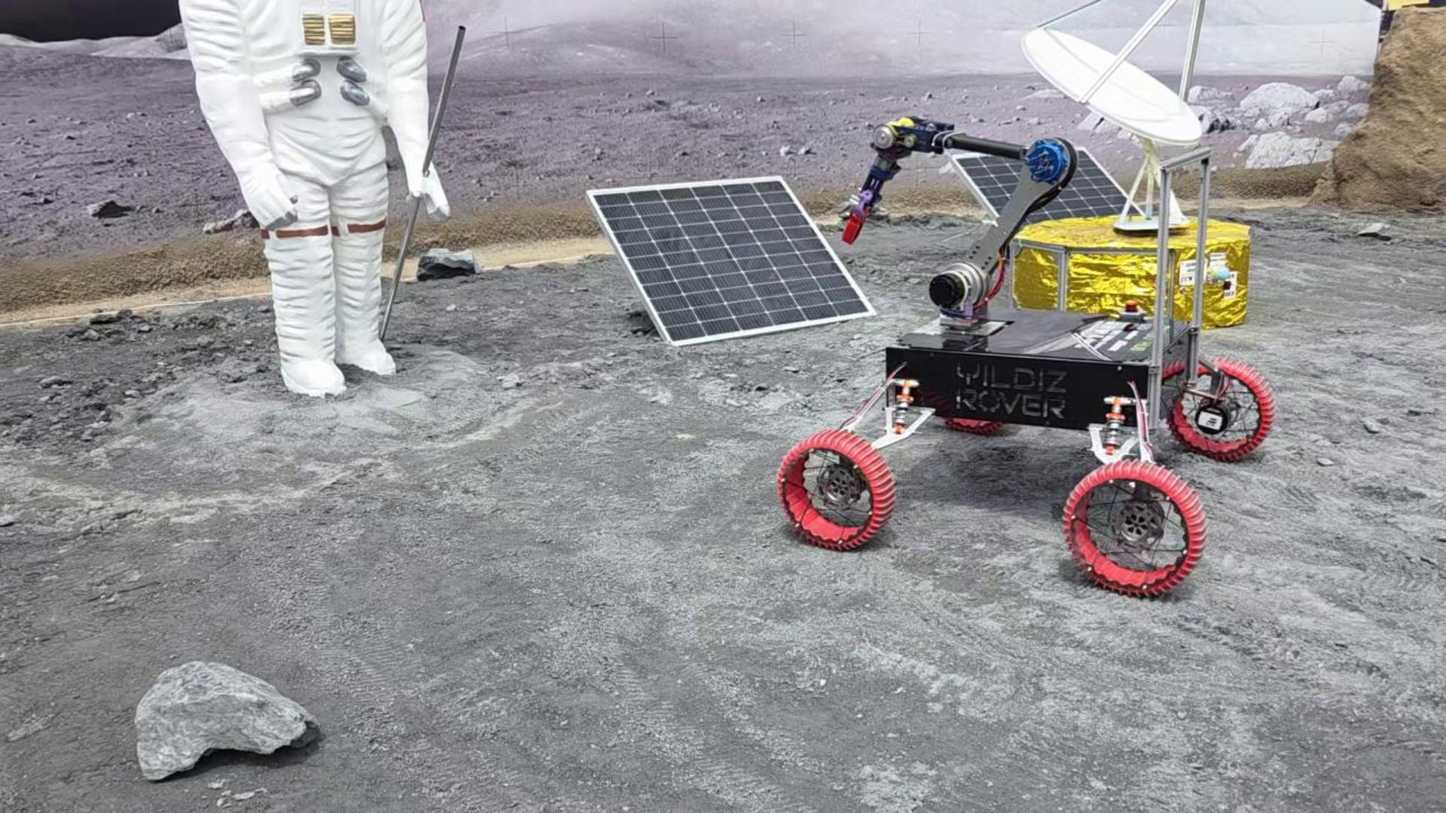rock: (134, 662, 314, 779), (417, 248, 482, 280)
